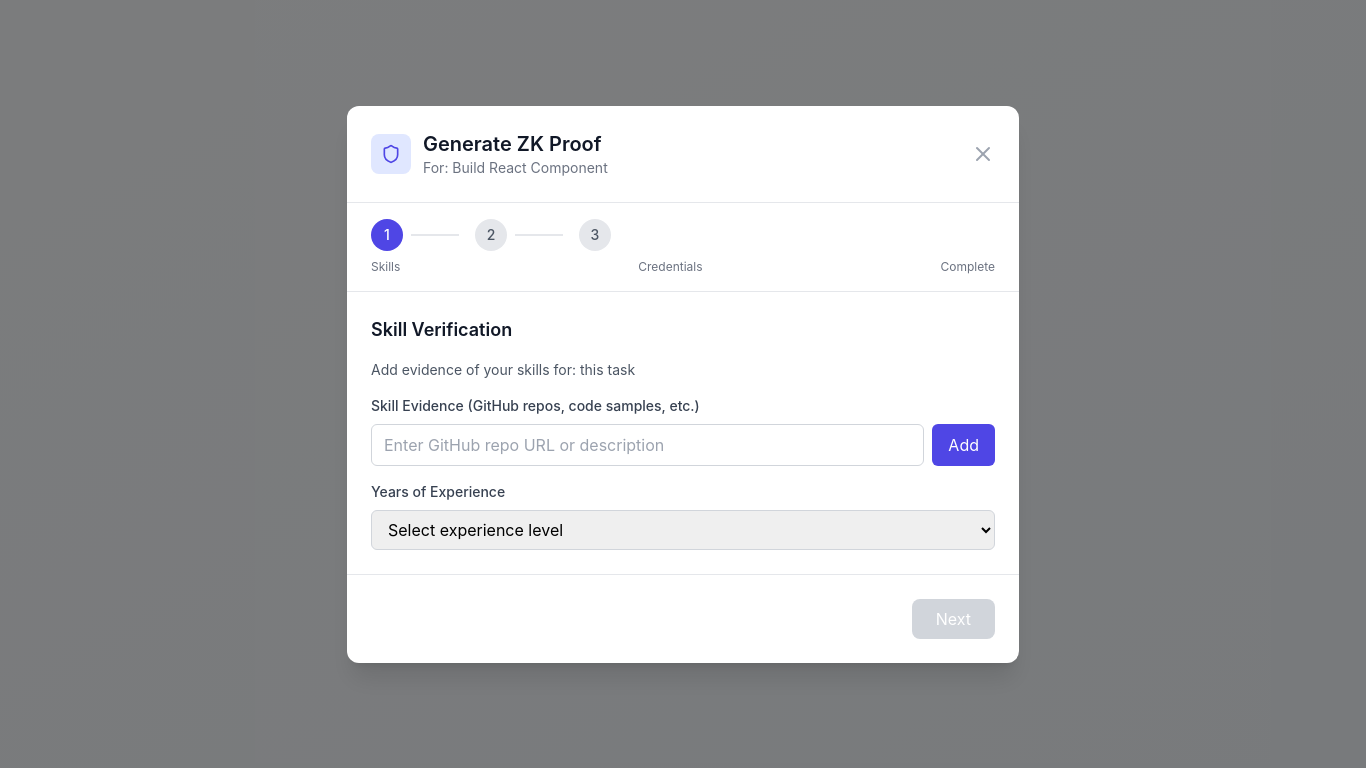
Test: ProofGenerator Component › Step 1 - Skill Verification › should allow adding skill proofs
In the field with placeholder "Enter GitHub repo URL or description": (648, 444) [371,424,924,466], type "https://github.com/user/repo"
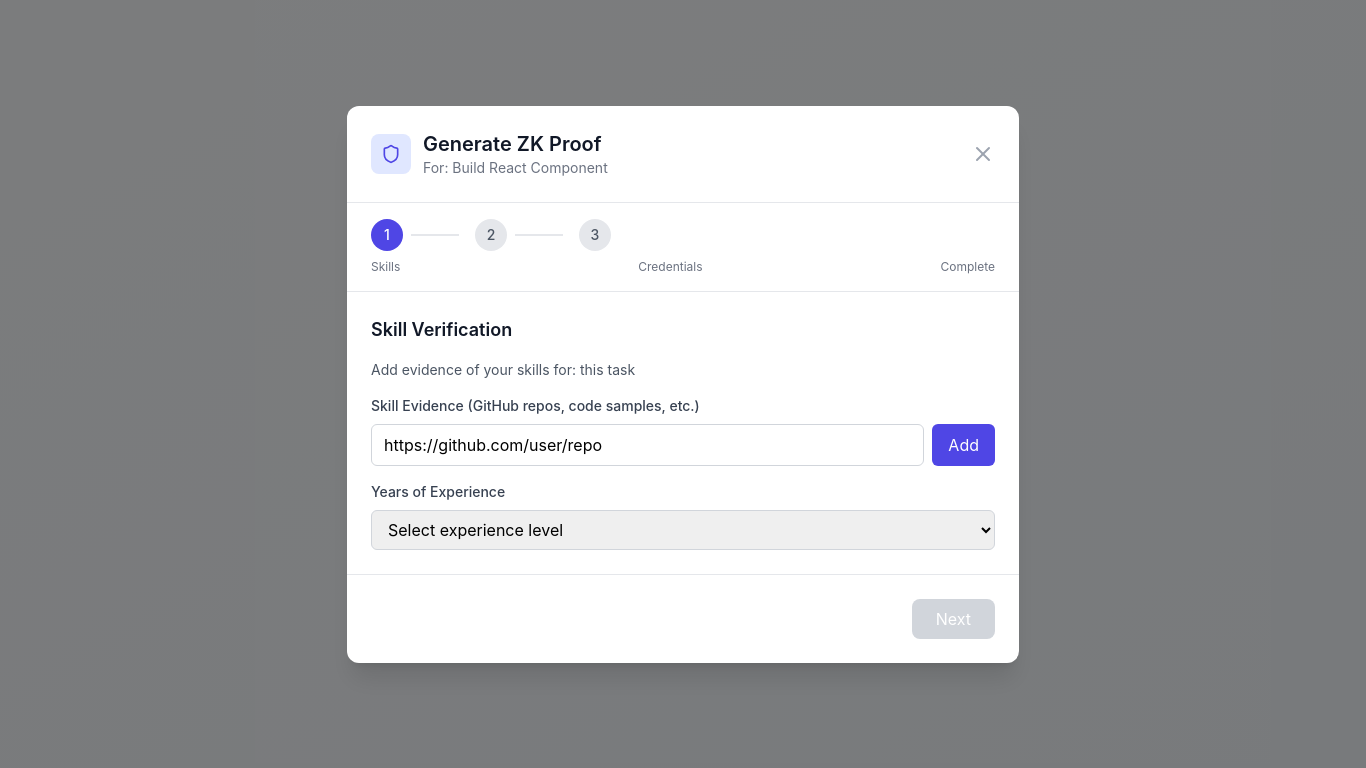
Click the button "Add": (964, 444) [932,424,995,466]
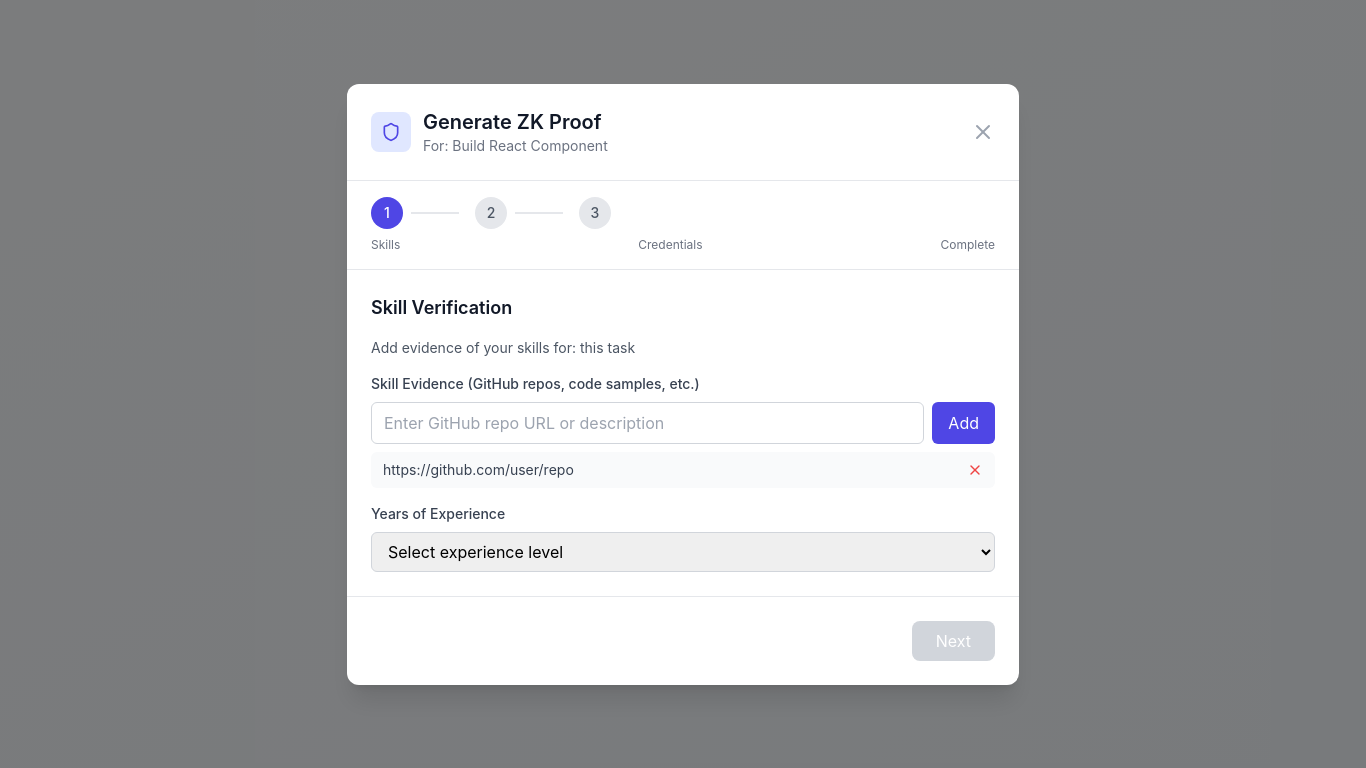
Result: the text "https://github.com/user/repo" is shown at [383,460,574,480]
